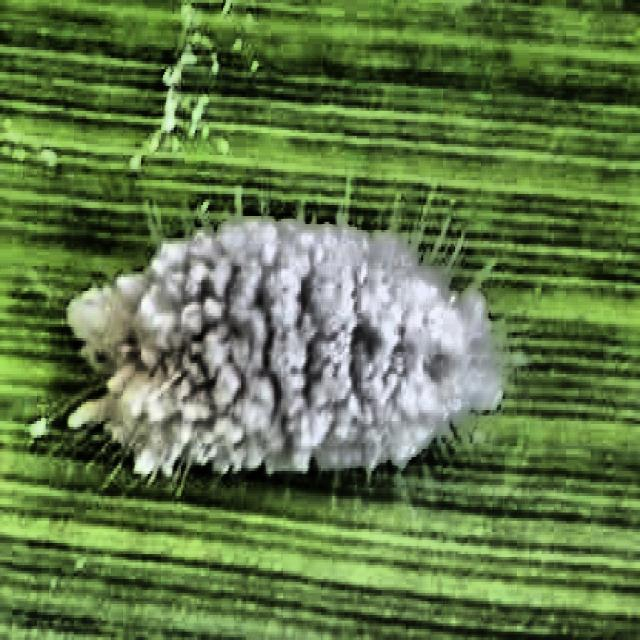Mealy-bug: (48, 181, 546, 520)
